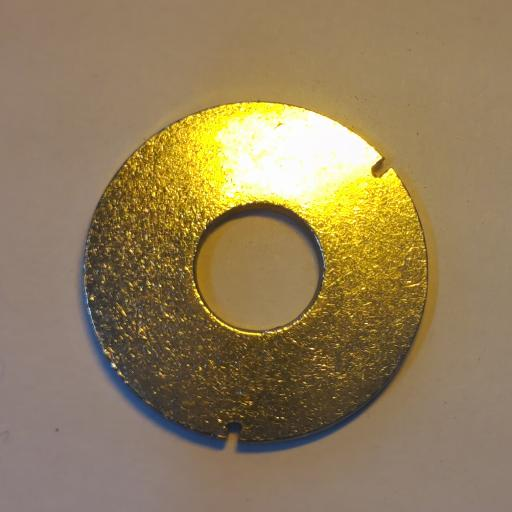burr: (370, 157, 393, 179), (225, 421, 243, 442)
